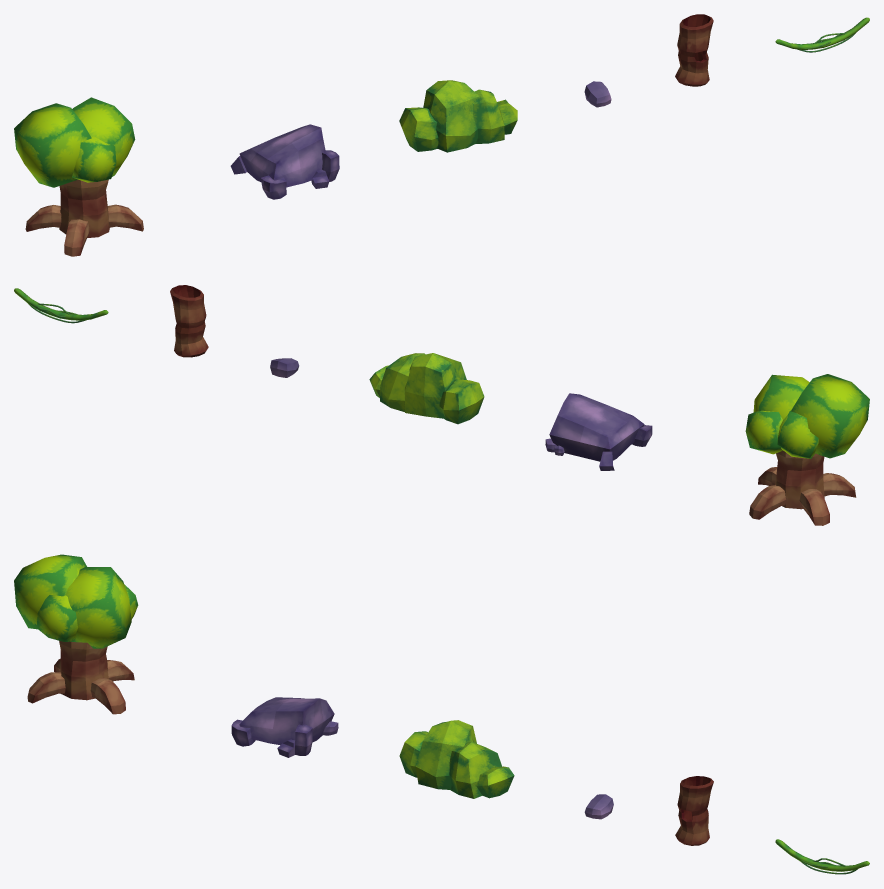
File: ForestAssetPack.fbx
3 views of the same model, one above another, from view 1: azimuth 30°, elevation 25°; view 2: azimuth 150°, elevation 25°; view 3: azimuth 330°, elevation 25° (orthographic).
Visible parts, largest first — view 1: TreeGrown, BushLeafes, RockCluster, TreeTrunk, Vine, RockSmall; view 2: TreeGrown, BushLeafes, RockCluster, TreeTrunk, Vine, RockSmall; view 3: TreeGrown, BushLeafes, RockCluster, TreeTrunk, Vine.
Part boxes in pixels (left/top/right/bottom): TreeGrown: left=14, top=97, right=143, bottom=256; BushLeafes: left=399, top=80, right=517, bottom=152; RockCluster: left=230, top=124, right=339, bottom=199; TreeTrunk: left=675, top=14, right=713, bottom=86; Vine: left=775, top=17, right=869, bottom=52; RockSmall: left=584, top=81, right=611, bottom=107; TreeGrown: left=745, top=374, right=869, bottom=525; BushLeafes: left=369, top=353, right=484, bottom=424; RockCluster: left=545, top=393, right=652, bottom=470; TreeTrunk: left=170, top=285, right=208, bottom=357; Vine: left=14, top=288, right=108, bottom=323; RockSmall: left=270, top=358, right=299, bottom=377; TreeGrown: left=14, top=554, right=138, bottom=714; BushLeafes: left=399, top=720, right=514, bottom=798; RockCluster: left=231, top=697, right=338, bottom=757; TreeTrunk: left=675, top=776, right=713, bottom=845; Vine: left=775, top=839, right=869, bottom=874.
Size of the model in its own units: 2831 by 408 by 313.
